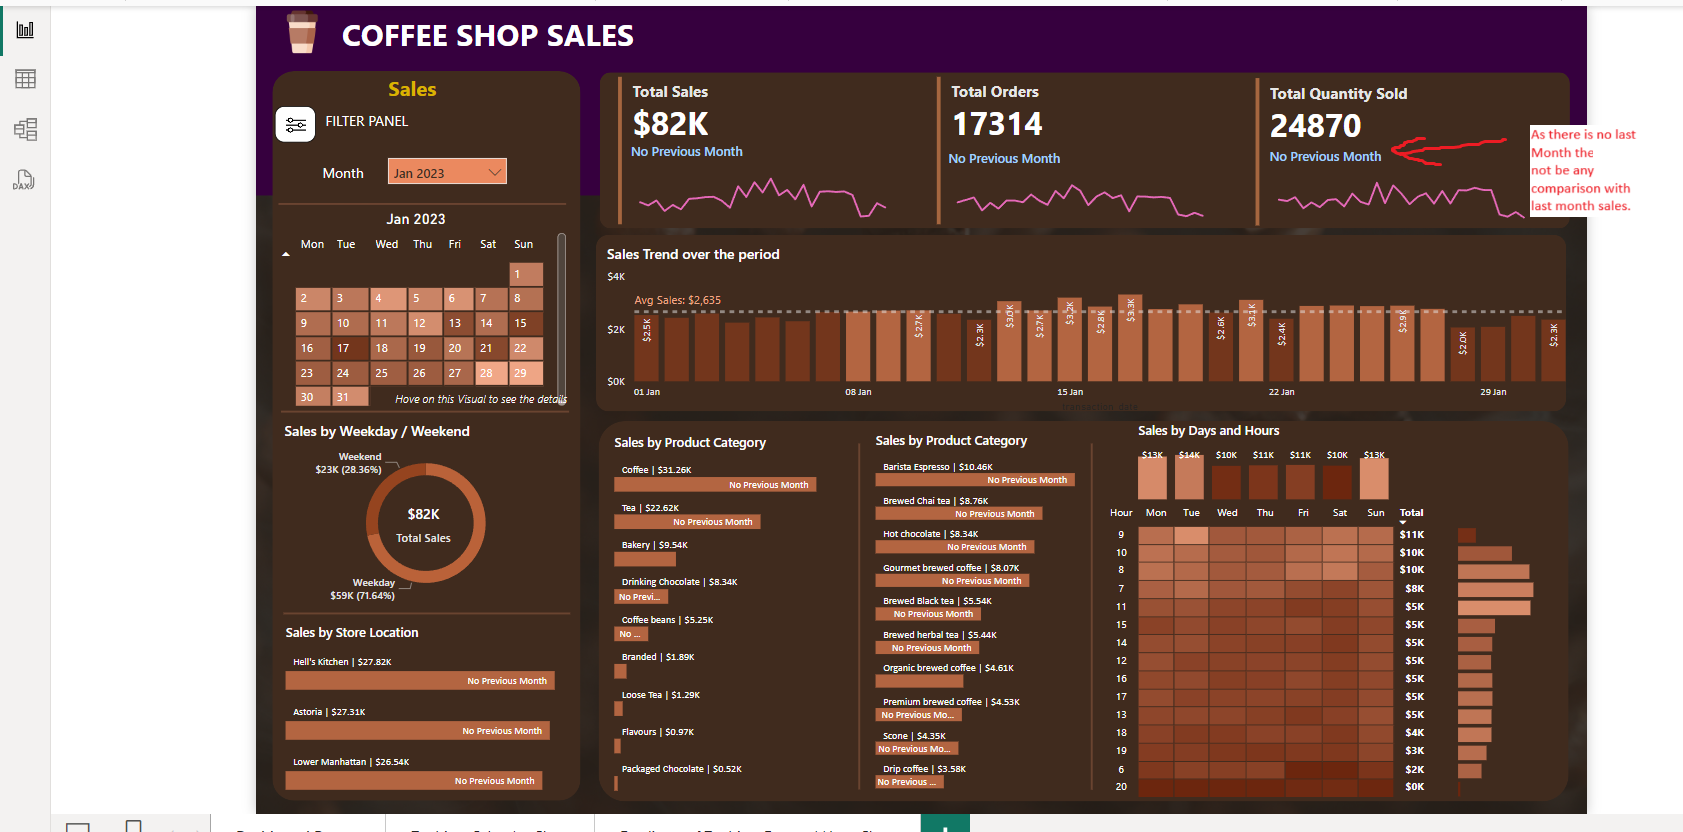

Layout of this report page (visuals, bound fields, positions):
{"tool":"powerbi","page":{"name":"Dashboard Report","canvas":[1400,850],"ordinal":0},"visuals":[{"type":"shape","box":[0,0,1400.1,199.4],"z":0},{"type":"shape","box":[360,435.7,1020,400],"z":1000},{"type":"shape","box":[17.4,67.7,324.3,767.1],"z":2000},{"type":"shape","box":[361.1,69.1,1020,164.3],"z":3000},{"type":"textbox","box":[85.7,2.9,327.1,68.6],"z":4000},{"type":"cardVisual","fields":{"Data":["Transactions.Total Sales"]},"box":[375.7,70,300.5,165.2],"z":4000,"group":"g1"},{"type":"cardVisual","fields":{"Data":["Transactions.Total Orders"]},"box":[711.1,70,300.5,165.2],"z":4000,"group":"g2"},{"type":"cardVisual","fields":{"Data":["Transactions.Total Quantity"]},"box":[1046.6,71.5,300.5,165.2],"z":4000,"group":"g3"},{"type":"slicer","fields":{"Values":["Date Table.Month Year"]},"box":[134.3,155.7,134.3,48.6],"z":5000},{"type":"lineChart","fields":{"Y":["Transactions.Total Sales"],"Category":["Date Table.Date.Variation.Date Hierarchy.Year","Date Table.Date.Variation.Date Hierarchy.Quarter","Date Table.Date.Variation.Date Hierarchy.Month","Date Table.Date.Variation.Date Hierarchy.Day"]},"box":[388.5,144.1,287.7,85.5],"z":5001,"group":"g1"},{"type":"lineChart","fields":{"Y":["Transactions.Total Quantity Sold"],"Category":["Date Table.Date.Variation.Date Hierarchy.Year","Date Table.Date.Variation.Date Hierarchy.Quarter","Date Table.Date.Variation.Date Hierarchy.Month","Date Table.Date.Variation.Date Hierarchy.Day"]},"box":[1060.7,149,287.7,85.5],"z":5001,"group":"g3"},{"type":"lineChart","fields":{"Y":["Transactions.Total Orders"],"Category":["Date Table.Date.Variation.Date Hierarchy.Year","Date Table.Date.Variation.Date Hierarchy.Quarter","Date Table.Date.Variation.Date Hierarchy.Month","Date Table.Date.Variation.Date Hierarchy.Day"]},"box":[722.8,151.7,287.7,85.5],"z":5001,"group":"g2"},{"type":"group","id":"g1","title":"Group 1","box":[375.7,70,300.5,165.2],"z":6000},{"type":"group","id":"g2","title":"Group 1","box":[711.1,70,300.5,166.6],"z":7000},{"type":"group","id":"g3","title":"Group 1","box":[1046.6,71.5,301.9,165.2],"z":8000},{"type":"pivotTable","fields":{"Rows":["Date Table.Week Number"],"Columns":["Date Table.Day Name"],"Values":["Min(Date Table.Day Number)"]},"box":[17.5,233.8,313.8,191.2],"z":9000},{"type":"card","fields":{"Values":["Min(Date Table.Month Year)"]},"box":[100,202.5,137.5,45],"z":10000},{"type":"card","fields":{"Values":["Transactions.Footnote"]},"box":[132.5,400,208.8,32.5],"z":11000},{"type":"shape","box":[25.7,410,302.9,32.9],"z":12000},{"type":"shape","box":[23.8,191.2,302.5,32.5],"z":13000},{"type":"donutChart","title":"Sales by Weekday / Weekend","fields":{"Y":["Transactions.Total Sales"],"Category":["Date Table.Weekday / Weekend"]},"box":[25,436.2,307.5,195],"z":14000},{"type":"card","fields":{"Values":["Transactions.Total Sales"]},"box":[128.8,518.8,95,51.2],"z":15000},{"type":"shape","box":[28.6,622.9,301.4,31.4],"z":16000},{"type":"shape","box":[357.1,240,1020,185.7],"z":17000},{"type":"clusteredBarChart","title":"Sales by Store Location","fields":{"Category":["Transactions.store_location"],"Y":["Transactions.Placeholder","Transactions.Total Sales"]},"box":[25.7,648.6,317.1,182.9],"z":18000},{"type":"columnChart","title":"Sales Trend over the period","fields":{"Category":["Transactions.transaction_date"],"Y":["Transactions.Total Sales"]},"box":[363.4,250.3,1020,182.9],"z":19000},{"type":"shape","box":[615.7,460.6,35.7,363.7],"z":20000},{"type":"clusteredBarChart","title":"Sales by Product Category","fields":{"Y":["Transactions.Placeholder","Transactions.Total Sales"],"Category":["Transactions.product_category"]},"box":[372,450,250,381.4],"z":21000},{"type":"clusteredBarChart","title":"Sales by Product Category","fields":{"Y":["Transactions.Placeholder","Transactions.Total Sales"],"Category":["Transactions.product_type"]},"box":[646.6,447.4,250,381.4],"z":22000},{"type":"shape","box":[861.4,460,35.7,364.3],"z":23000},{"type":"pivotTable","fields":{"Rows":["Transactions.Hour"],"Columns":["Date Table.Day Name"],"Values":["Transactions.Total Sales"]},"box":[887.1,520,370,318.6],"z":24000},{"type":"barChart","fields":{"Category":["Transactions.Hour"],"Y":["Transactions.Total Sales"]},"box":[1258.6,535.7,122.9,300],"z":25000},{"type":"columnChart","title":"Sales by Days and Hours","fields":{"Category":["Date Table.Day Name"],"Y":["Transactions.Total Sales"]},"box":[922.9,435.7,274.3,88.6],"z":26000},{"type":"textbox","box":[48.6,160,85.7,44.3],"z":27000},{"type":"textbox","box":[134.3,67.1,90,52.9],"z":28000},{"type":"textbox","box":[48.6,105.7,135.7,41.4],"z":29000},{"type":"image","box":[20,105.7,42.9,38.6],"z":30000},{"type":"image","box":[11.4,0,74.3,54.3],"z":31000}]}

Visuals, with their boxes on the page's 1400x850 design canvas (x1, y1, x2, y2). These are canvas units, not pixel positions in the 1683x832 screenshot, which may show the page scaled, cropped or inside an application window:
shape: box=[0, 0, 1400, 199]
shape: box=[360, 436, 1380, 836]
shape: box=[17, 68, 342, 835]
shape: box=[361, 69, 1381, 233]
textbox: box=[86, 3, 413, 72]
cardVisual - Transactions.Total Sales: box=[376, 70, 676, 235]
cardVisual - Transactions.Total Orders: box=[711, 70, 1012, 235]
cardVisual - Transactions.Total Quantity: box=[1047, 72, 1347, 237]
slicer - Date Table.Month Year: box=[134, 156, 269, 204]
lineChart - Transactions.Total Sales x Date Table.Date.Variation.Date Hierarchy.Year: box=[388, 144, 676, 230]
lineChart - Transactions.Total Quantity Sold x Date Table.Date.Variation.Date Hierarchy.Year: box=[1061, 149, 1348, 234]
lineChart - Transactions.Total Orders x Date Table.Date.Variation.Date Hierarchy.Year: box=[723, 152, 1010, 237]
"Group 1" group: box=[376, 70, 676, 235]
"Group 1" group: box=[711, 70, 1012, 237]
"Group 1" group: box=[1047, 72, 1348, 237]
pivotTable - Date Table.Week Number x Date Table.Day Name: box=[18, 234, 331, 425]
card - Min(Date Table.Month Year): box=[100, 202, 238, 248]
card - Transactions.Footnote: box=[132, 400, 341, 432]
shape: box=[26, 410, 329, 443]
shape: box=[24, 191, 326, 224]
"Sales by Weekday / Weekend" donutChart: box=[25, 436, 332, 631]
card - Transactions.Total Sales: box=[129, 519, 224, 570]
shape: box=[29, 623, 330, 654]
shape: box=[357, 240, 1377, 426]
"Sales by Store Location" clusteredBarChart: box=[26, 649, 343, 832]
"Sales Trend over the period" columnChart: box=[363, 250, 1383, 433]
shape: box=[616, 461, 651, 824]
"Sales by Product Category" clusteredBarChart: box=[372, 450, 622, 831]
"Sales by Product Category" clusteredBarChart: box=[647, 447, 897, 829]
shape: box=[861, 460, 897, 824]
pivotTable - Transactions.Hour x Date Table.Day Name: box=[887, 520, 1257, 839]
barChart - Transactions.Hour x Transactions.Total Sales: box=[1259, 536, 1382, 836]
"Sales by Days and Hours" columnChart: box=[923, 436, 1197, 524]
textbox: box=[49, 160, 134, 204]
textbox: box=[134, 67, 224, 120]
textbox: box=[49, 106, 184, 147]
image: box=[20, 106, 63, 144]
image: box=[11, 0, 86, 54]
